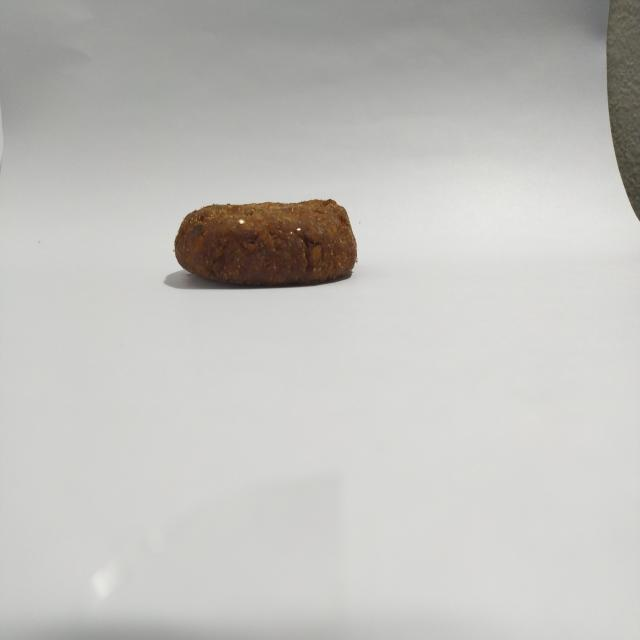Pajagua: (171, 192, 362, 301)
